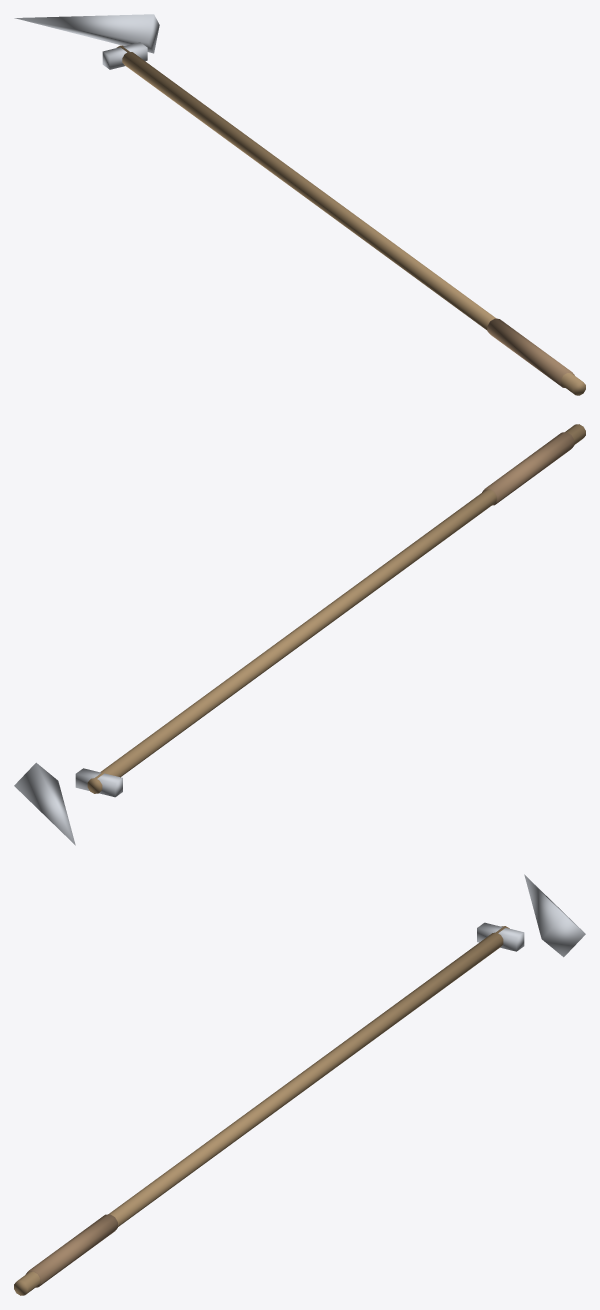
File: weapon_spear.fbx
3 views of the same model, one above another, from view 1: azimuth 30°, elevation 25°; view 2: azimuth 150°, elevation 25°; view 3: azimuth 330°, elevation 25° (orthographic). The views are drawn at different scales.
Parts seen in each view (by area): view 1: Spear; view 2: Spear; view 3: Spear.
Part boxes in pixels (left/top/right/bottom): Spear: left=14, top=14, right=585, bottom=395; Spear: left=14, top=424, right=585, bottom=845; Spear: left=14, top=874, right=585, bottom=1295.
Size of the model in its own units: 24.4 by 9 by 216.
